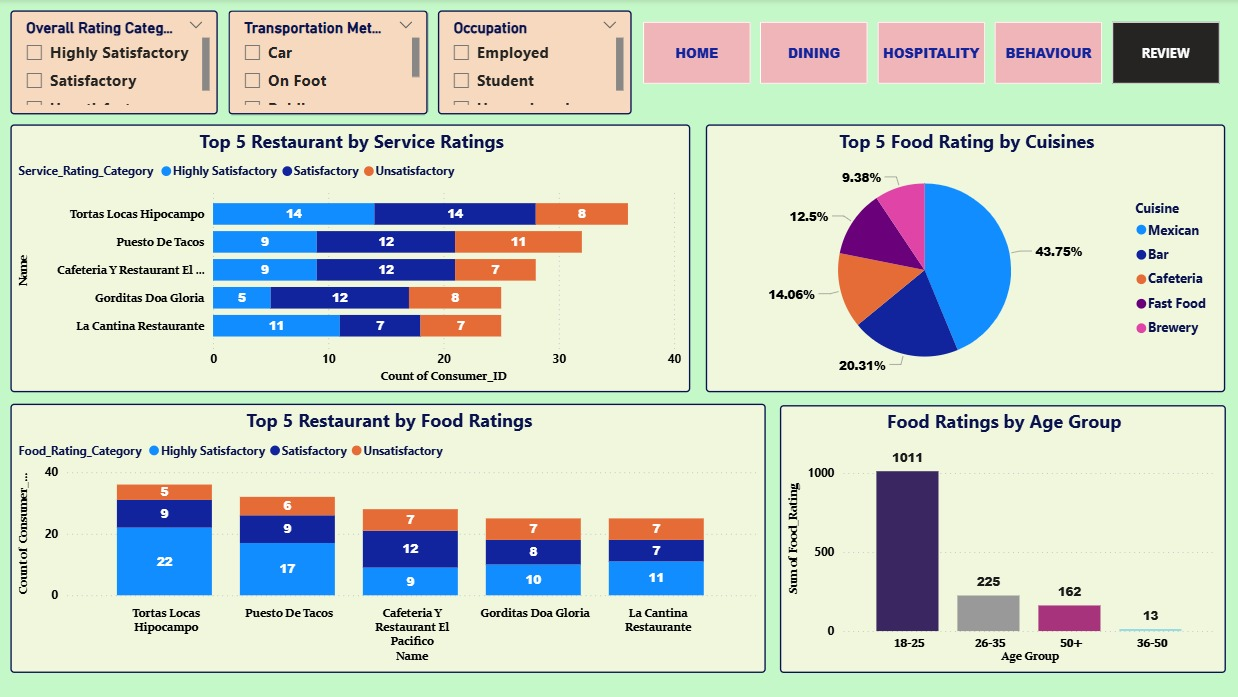

This screenshot's page, from the dashboard's own definition file:
{"tool":"powerbi","page":{"name":"REVIEW","canvas":[1280,720],"ordinal":4},"visuals":[{"type":"columnChart","title":"Top 5 Restaurant by Food Ratings","fields":{"Category":["cleaned_restaurants_data.Name"],"Y":["CountNonNull(ratings.Consumer_ID)"],"Series":["ratings.Food_Rating_Category"]},"box":[11.8,417.7,779.5,278],"z":0},{"type":"barChart","title":"Top 5 Restaurant by Service Ratings","fields":{"Category":["cleaned_restaurants_data.Name"],"Series":["ratings.Service_Rating_Category"],"Y":["CountNonNull(ratings.Consumer_ID)"]},"box":[11.8,129.4,701.6,276.5],"z":1000},{"type":"clusteredColumnChart","title":"Food Ratings by Age Group","fields":{"Category":["cleaned_consumers_data.Age Group"],"Y":["Sum(ratings.Food_Rating)"]},"box":[805.5,419.1,460.3,276.5],"z":2000},{"type":"pieChart","title":"Top 5 Food Rating by Cuisines","fields":{"Category":["restaurant_cuisines.Cuisine","ratings.Food_Rating_Category"],"Y":["CountNonNull(restaurant_cuisines.Restaurant_ID)"]},"box":[730,128.8,535.9,276.5],"z":3000},{"type":"pageNavigator","box":[664.3,23.1,596.4,65],"z":4000},{"type":"slicer","fields":{"Values":["ratings.Overall_Rating_Category"]},"box":[11.4,11.4,214.3,107.1],"z":5000},{"type":"slicer","fields":{"Values":["cleaned_consumers_data.Transportation_Method"]},"box":[237.1,11.4,205.7,107.1],"z":6000},{"type":"slicer","fields":{"Values":["cleaned_consumers_data.Occupation"]},"box":[452.9,11.4,200,107.1],"z":7000}]}

Visuals, with their boxes in screenshot pixels (x1, y1, x2, y2), scaled from the page's 1280x720 canvas onto the 1238x697 screenshot:
"Top 5 Restaurant by Food Ratings" columnChart: x1=11, y1=404, x2=765, y2=673
"Top 5 Restaurant by Service Ratings" barChart: x1=11, y1=125, x2=690, y2=393
"Food Ratings by Age Group" clusteredColumnChart: x1=779, y1=406, x2=1224, y2=673
"Top 5 Food Rating by Cuisines" pieChart: x1=706, y1=125, x2=1224, y2=392
pageNavigator: x1=643, y1=22, x2=1219, y2=85
slicer - ratings.Overall_Rating_Category: x1=11, y1=11, x2=218, y2=115
slicer - cleaned_consumers_data.Transportation_Method: x1=229, y1=11, x2=428, y2=115
slicer - cleaned_consumers_data.Occupation: x1=438, y1=11, x2=631, y2=115
